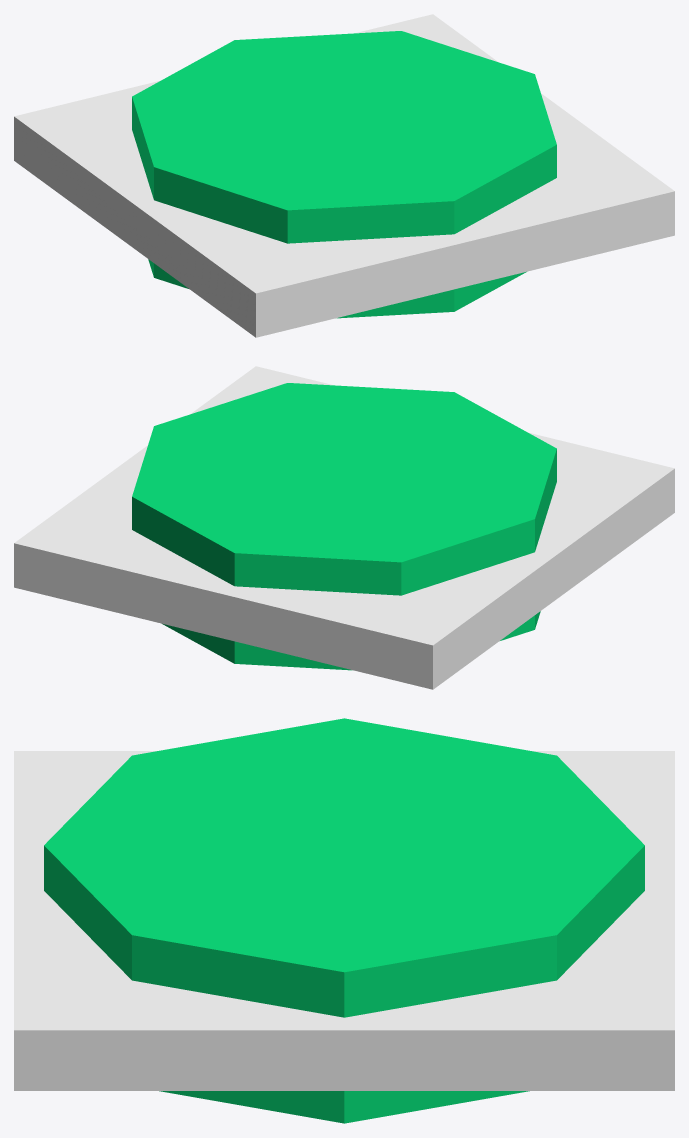
The model's file is Goal.fbx.
3 views of the same model, one above another, from view 1: azimuth 30°, elevation 25°; view 2: azimuth 150°, elevation 25°; view 3: azimuth 270°, elevation 25° (orthographic). The views are drawn at different scales.
Visible parts, largest first — view 1: Cylinder.002, Cylinder.001; view 2: Cylinder.002, Cylinder.001; view 3: Cylinder.002, Cylinder.001.
Boxes of the visible parts, box(x1,y1,x2,y2) form: Cylinder.002: box(132, 31, 556, 318); Cylinder.001: box(14, 14, 674, 337); Cylinder.002: box(132, 383, 556, 670); Cylinder.001: box(14, 366, 674, 689); Cylinder.002: box(44, 718, 644, 1123); Cylinder.001: box(14, 751, 674, 1090).
Bounding box in the file's own units: 198 × 50 × 198.
